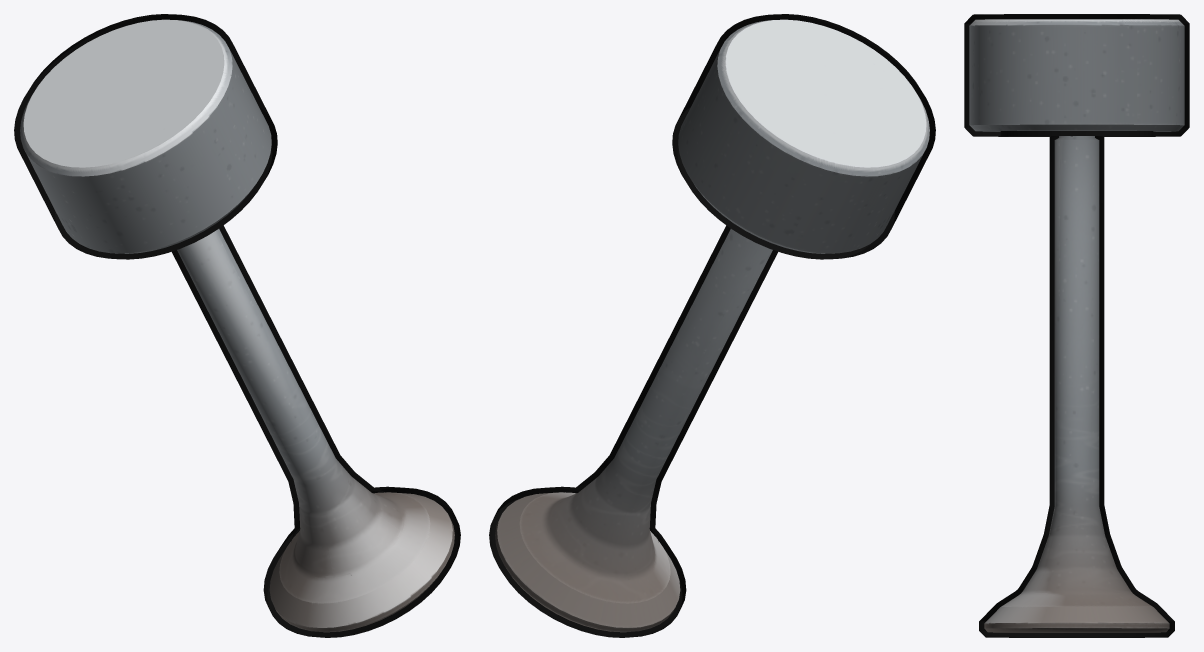
Rendered from ExhaustValve.fbx.
3 renders of one model, left to right at view 1: azimuth 30°, elevation 25°; view 2: azimuth 150°, elevation 25°; view 3: azimuth 270°, elevation 25°, orthographic. The views are drawn at different scales.
Visible parts, largest first — view 1: ExhaustValve; view 2: ExhaustValve; view 3: ExhaustValve.
Boxes of the visible parts, left/top/right/bottom form: ExhaustValve: left=14, top=14, right=460, bottom=637; ExhaustValve: left=489, top=14, right=935, bottom=637; ExhaustValve: left=964, top=14, right=1189, bottom=637.
Size of the model in its own units: 0.0605 by 0.0869 by 0.0303.
1 material, 1 textured.
